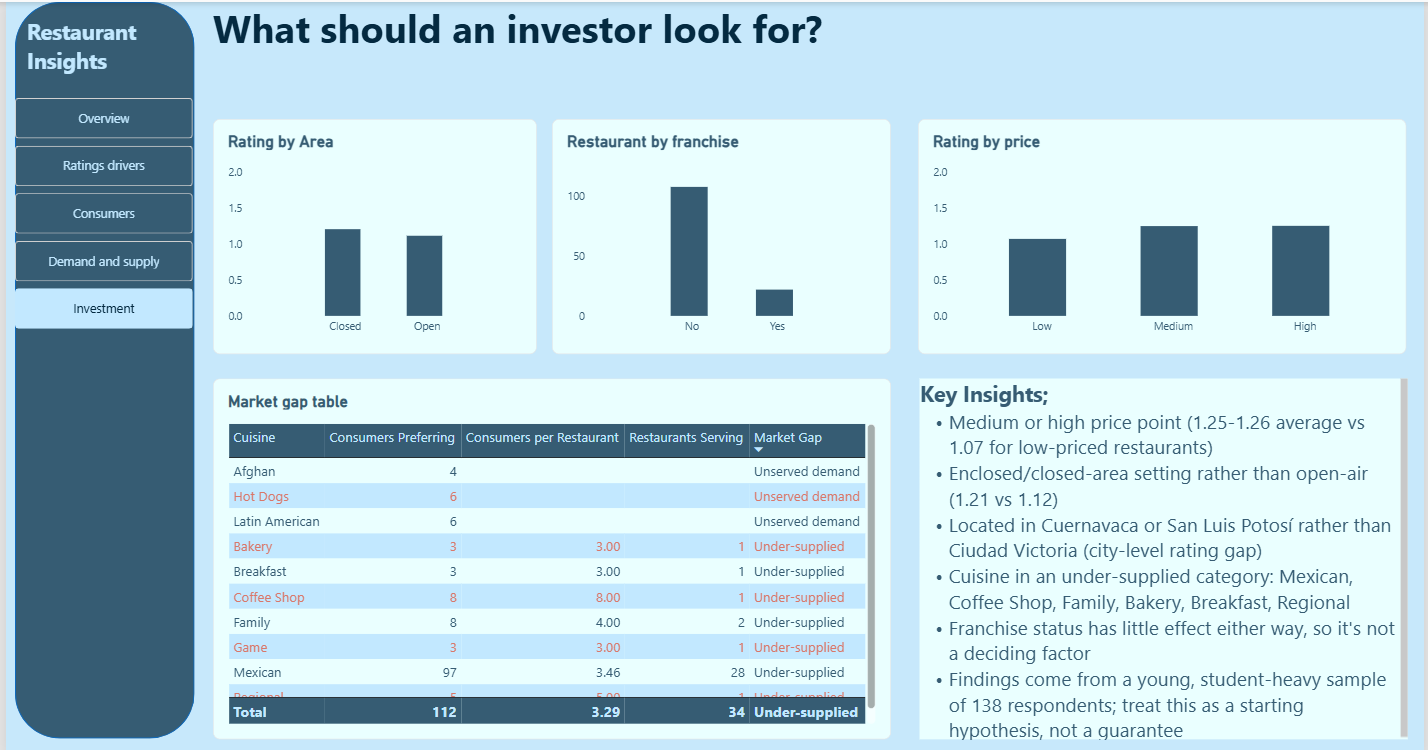

The dashboard page shown, as its layout file describes it:
{"tool":"powerbi","page":{"name":"Investment","canvas":[1580,840],"ordinal":4},"visuals":[{"type":"shape","box":[9.3,0,200,820.5],"z":0},{"type":"textbox","box":[22.9,16.3,173.3,89.9],"z":1000},{"type":"pageNavigator","box":[9.5,106.5,198.8,260.3],"z":2000},{"type":"clusteredColumnChart","title":"Rating by Area","fields":{"Y":["Measures (2).Avg Overall Rating"],"Category":["Restaurants.Area"]},"box":[229.9,130.8,360.7,261.7],"z":2001},{"type":"clusteredColumnChart","title":"Rating by price","fields":{"Y":["Measures (2).Avg Overall Rating"],"Category":["Restaurants.Price"]},"box":[1016.8,130.8,543.9,261.7],"z":2002},{"type":"clusteredColumnChart","title":"Restaurant by franchise","fields":{"Category":["Restaurants.Franchise"],"Y":["Measures (2).Restaurant Count"]},"box":[607.5,130.8,377.6,261.7],"z":2003},{"type":"tableEx","title":"Market gap table","fields":{"Values":["Cuisine.Cuisine","Measures (2).Consumers Preferring","Measures (2).Consumers per Restaurant","Measures (2).Restaurants Serving","Measures (2).Market Gap"]},"box":[229.9,418.7,755.3,402.2],"z":2004},{"type":"textbox","box":[1017,419,544,402],"z":2005},{"type":"textbox","box":[231.1,0,1348.7,107.5],"z":2006}]}

Visuals, with their boxes in screenshot pixels (x1, y1, x2, y2), scaled from the page's 1580x840 canvas onto the 1428x750 screenshot:
shape: bbox(8, 0, 189, 733)
textbox: bbox(21, 15, 177, 95)
pageNavigator: bbox(9, 95, 188, 328)
"Rating by Area" clusteredColumnChart: bbox(208, 117, 534, 350)
"Rating by price" clusteredColumnChart: bbox(919, 117, 1411, 350)
"Restaurant by franchise" clusteredColumnChart: bbox(549, 117, 890, 350)
"Market gap table" tableEx: bbox(208, 374, 890, 733)
textbox: bbox(919, 374, 1411, 733)
textbox: bbox(209, 0, 1427, 96)
